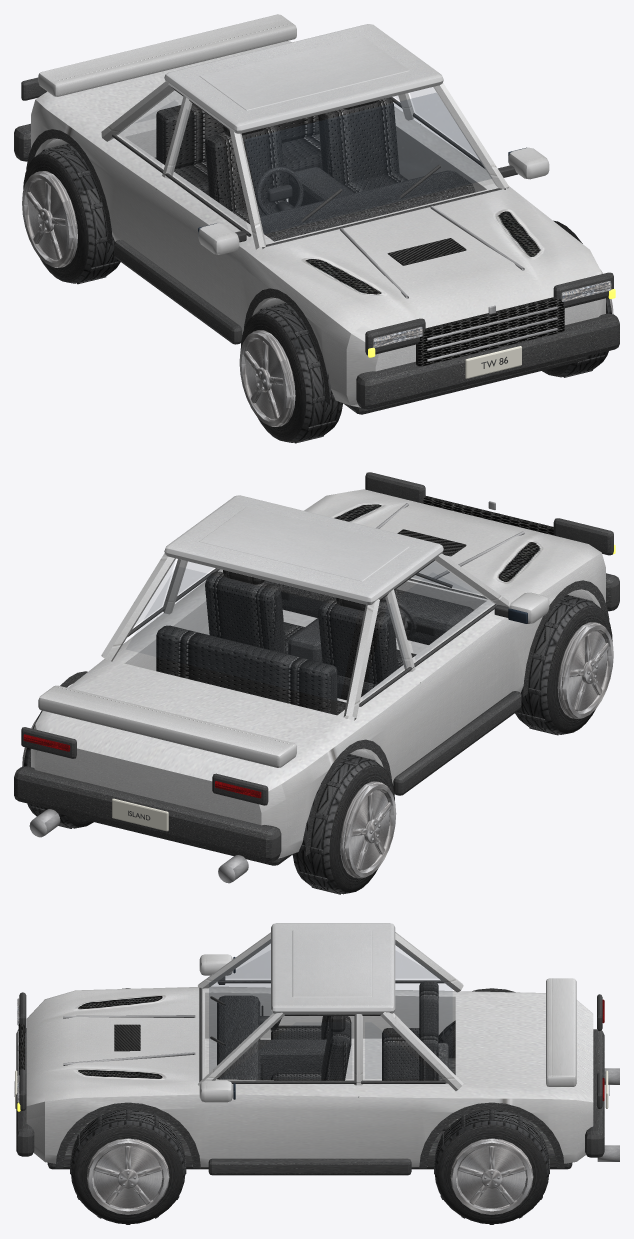
Rendered from coupe.glb.
3 views of the same model, one above another, from view 1: azimuth 30°, elevation 25°; view 2: azimuth 150°, elevation 25°; view 3: azimuth 270°, elevation 25° (orthographic). The views are drawn at different scales.
Parts seen in each view (by area): view 1: BodyPaint_coupe_HoodParts, BodyPaintParts, GlassParts, TrimParts, BodyPaint_coupe_DoorParts, BodyPaint_coupe_RoofParts, SeatLeatherParts, DashboardVinylParts, PerforatedGrilleParts, TireTreadRubberParts, TireTreadRubberParts.002, TireParts.002 (+10 smaller); view 2: BodyPaintParts, TrimParts, SeatLeatherParts, BodyPaint_coupe_DoorParts, BodyPaint_coupe_RoofParts, BodyPaint_coupe_HoodParts, DashboardVinylParts, TireTreadRubberParts.002, TireTreadRubberParts, TireParts, TireParts.002, PolishedRimParts.002 (+9 smaller); view 3: BodyPaint_coupe_DoorParts, BodyPaintParts, BodyPaint_coupe_HoodParts, TrimParts, BodyPaint_coupe_RoofParts, SeatLeatherParts, GlassParts, DashboardVinylParts, TireParts.003, TireParts.001, ForgedGraphiteParts.003, ForgedGraphiteParts.001 (+6 smaller).
Boxes of the visible parts, box(x1,y1,x2,y2) form: BodyPaint_coupe_HoodParts: box(245, 183, 601, 341); BodyPaintParts: box(35, 14, 598, 407); GlassParts: box(133, 92, 491, 233); TrimParts: box(14, 77, 619, 414); BodyPaint_coupe_DoorParts: box(31, 100, 605, 405); BodyPaint_coupe_RoofParts: box(164, 24, 443, 133); SeatLeatherParts: box(156, 97, 407, 221); DashboardVinylParts: box(247, 167, 475, 241); PerforatedGrilleParts: box(416, 297, 564, 366); TireTreadRubberParts: box(253, 302, 343, 443); TireTreadRubberParts.002: box(36, 143, 120, 284); TireParts.002: box(23, 153, 88, 282); BodyPaintParts: box(35, 553, 594, 858); TrimParts: box(14, 472, 619, 865); SeatLeatherParts: box(156, 570, 416, 715); BodyPaint_coupe_DoorParts: box(31, 552, 605, 857); BodyPaint_coupe_RoofParts: box(164, 495, 443, 605); BodyPaint_coupe_HoodParts: box(304, 489, 601, 606); DashboardVinylParts: box(264, 580, 473, 662); TireTreadRubberParts.002: box(292, 754, 380, 894); TireTreadRubberParts: box(515, 594, 599, 735); TireParts: box(547, 605, 612, 733); TireParts.002: box(329, 764, 394, 892); PolishedRimParts.002: box(344, 782, 396, 878); BodyPaint_coupe_DoorParts: box(26, 992, 593, 1167); BodyPaintParts: box(192, 932, 593, 1166); BodyPaint_coupe_HoodParts: box(26, 986, 211, 1105); TrimParts: box(14, 976, 609, 1175); BodyPaint_coupe_RoofParts: box(271, 923, 395, 1014); SeatLeatherParts: box(271, 981, 438, 1080); GlassParts: box(209, 939, 438, 1072); DashboardVinylParts: box(217, 995, 326, 1080); TireParts.003: box(437, 1124, 546, 1224); TireParts.001: box(73, 1124, 183, 1224); ForgedGraphiteParts.003: box(450, 1138, 533, 1208); ForgedGraphiteParts.001: box(87, 1138, 169, 1208).
Bounding box in the file's own units: 2.32 × 1.59 × 4.33.
Materials: 20 (18 with a texture image).
